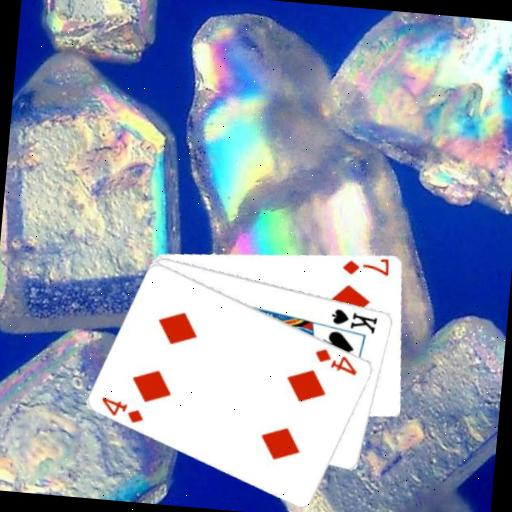4D: (97, 393, 148, 426), (311, 344, 361, 377)
7D: (339, 253, 393, 279)
KS: (328, 305, 381, 336)
